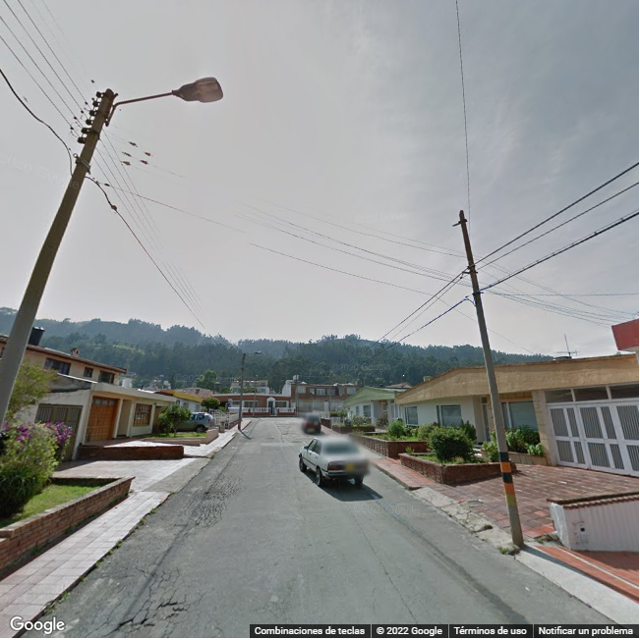D00: (344, 503, 416, 626), (88, 589, 128, 637)
D20: (135, 588, 188, 629)
